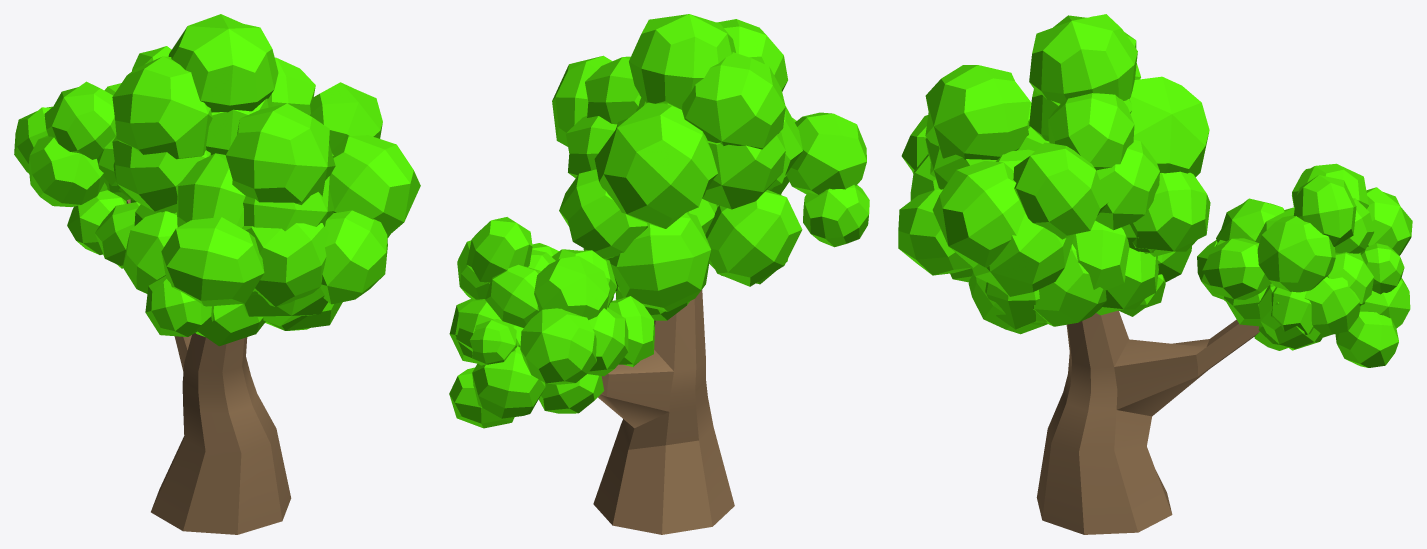
Rendered from Arbol2.fbx.
3 views of the same model, side by side, from view 1: azimuth 30°, elevation 25°; view 2: azimuth 150°, elevation 25°; view 3: azimuth 270°, elevation 25° (orthographic). The views are drawn at different scales.
Visible parts, largest first — view 1: Hojas, Tronco; view 2: Hojas, Tronco; view 3: Hojas, Tronco.
Boxes of the visible parts, x1,y1,x2,y2 form: Hojas: (14,14,420,346); Tronco: (126,199,291,534); Hojas: (449,14,869,428); Tronco: (593,289,734,534); Hojas: (898,14,1412,367); Tronco: (1036,310,1259,534).
Size of the model in its own units: 359 by 596 by 615.
